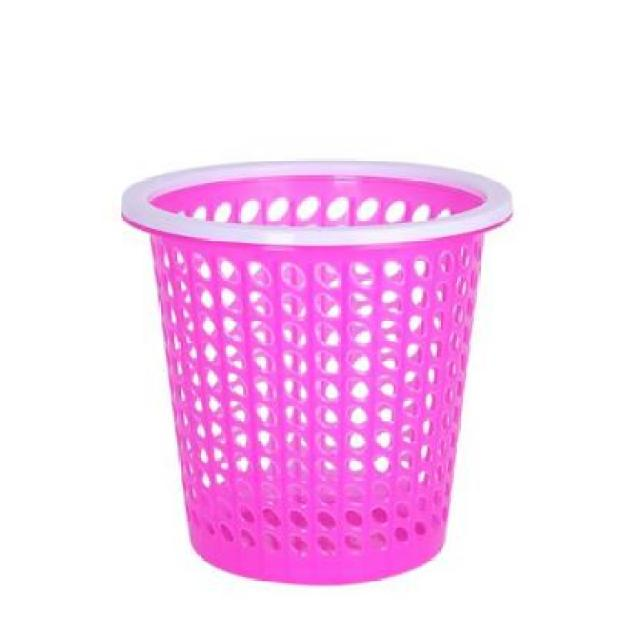dustbin: (115, 154, 518, 591)
